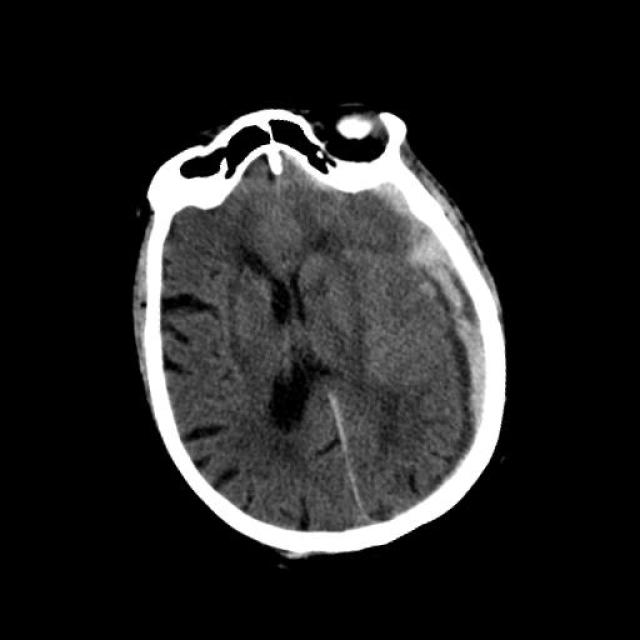Subdural: (372, 155, 550, 497)
